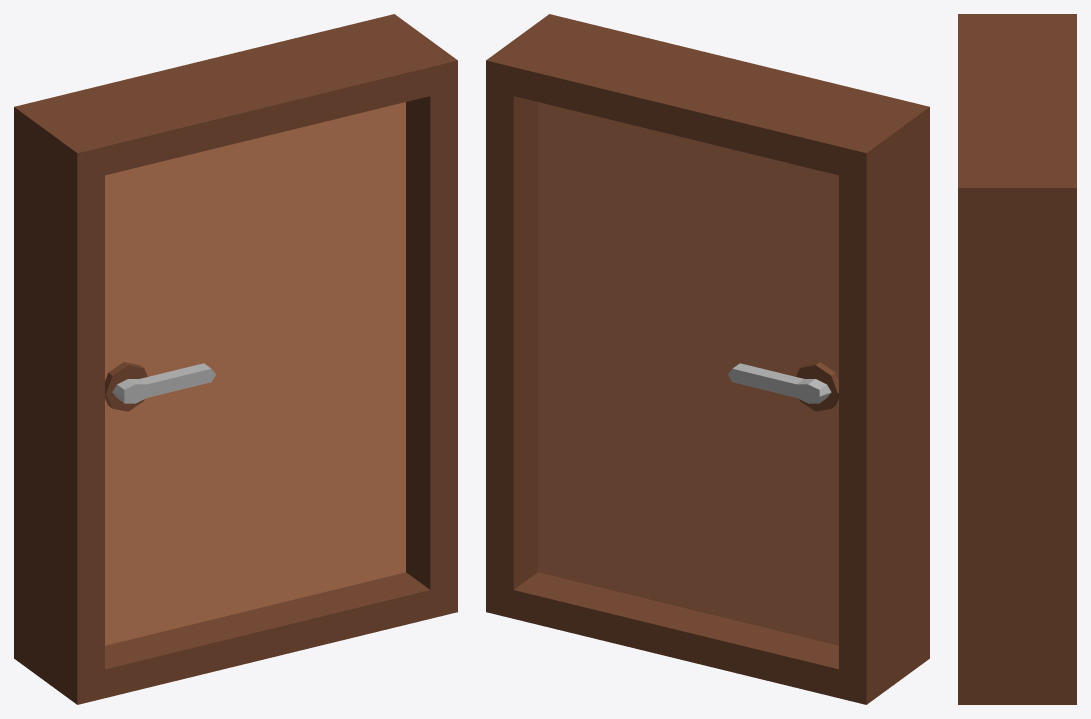
File: wooden_door.glb
3 renders of one model, left to right at view 1: azimuth 30°, elevation 25°; view 2: azimuth 150°, elevation 25°; view 3: azimuth 270°, elevation 25°, orthographic. The views are drawn at different scales.
Parts seen in each view (by area): view 1: WoodenDoor; view 2: WoodenDoor; view 3: WoodenDoor.
Boxes of the visible parts, x1,y1,x2,y2 form: WoodenDoor: [14, 14, 457, 704]; WoodenDoor: [486, 14, 929, 704]; WoodenDoor: [958, 14, 1076, 704].
Size of the model in its own units: 1.73 by 2.4 by 0.5.
1 material, 1 textured.
